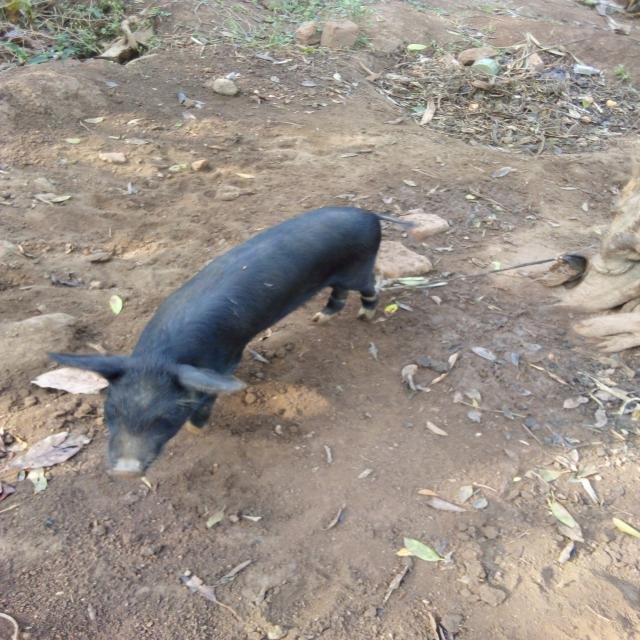pig: (24, 153, 461, 524)
